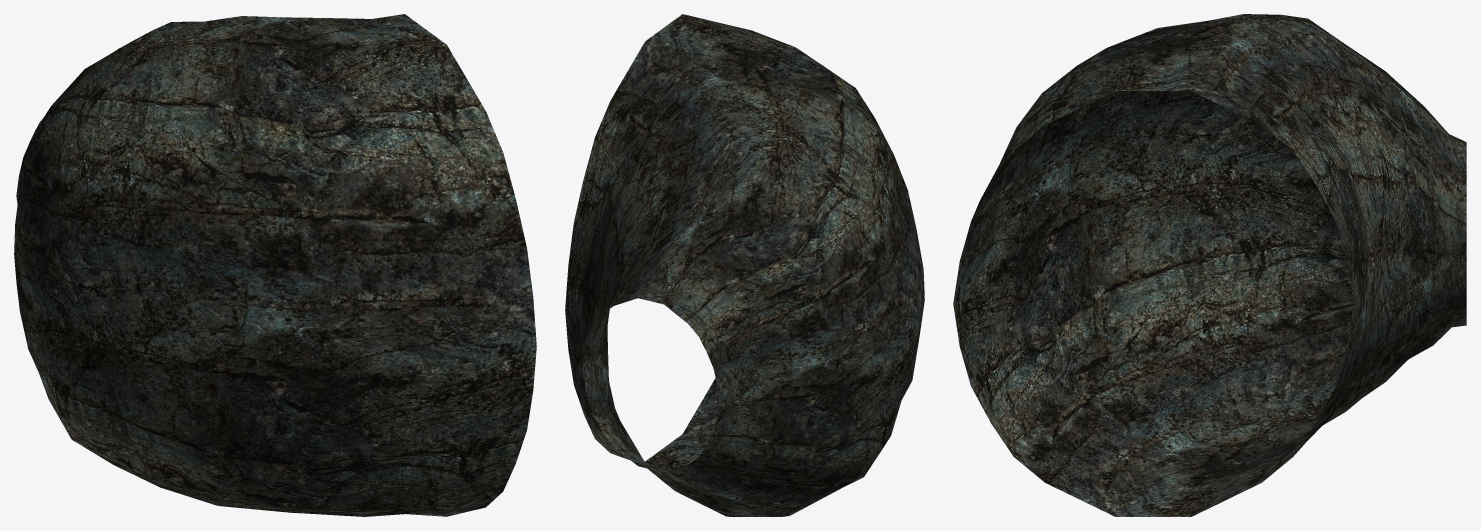
The model's file is tunnel_theta_turn_left_tr_large.dae.
3 views of the same model, side by side, from view 1: azimuth 30°, elevation 25°; view 2: azimuth 150°, elevation 25°; view 3: azimuth 270°, elevation 25° (orthographic). The views are drawn at different scales.
Parts seen in each view (by area): view 1: straight2; view 2: straight2; view 3: straight2.
Part boxes in pixels (x1,y1,x2,y2): straight2: (14, 14, 536, 516); straight2: (565, 14, 924, 516); straight2: (953, 14, 1466, 516).
Bounding box in the file's own units: 9.16 × 12.8 × 13.93.
